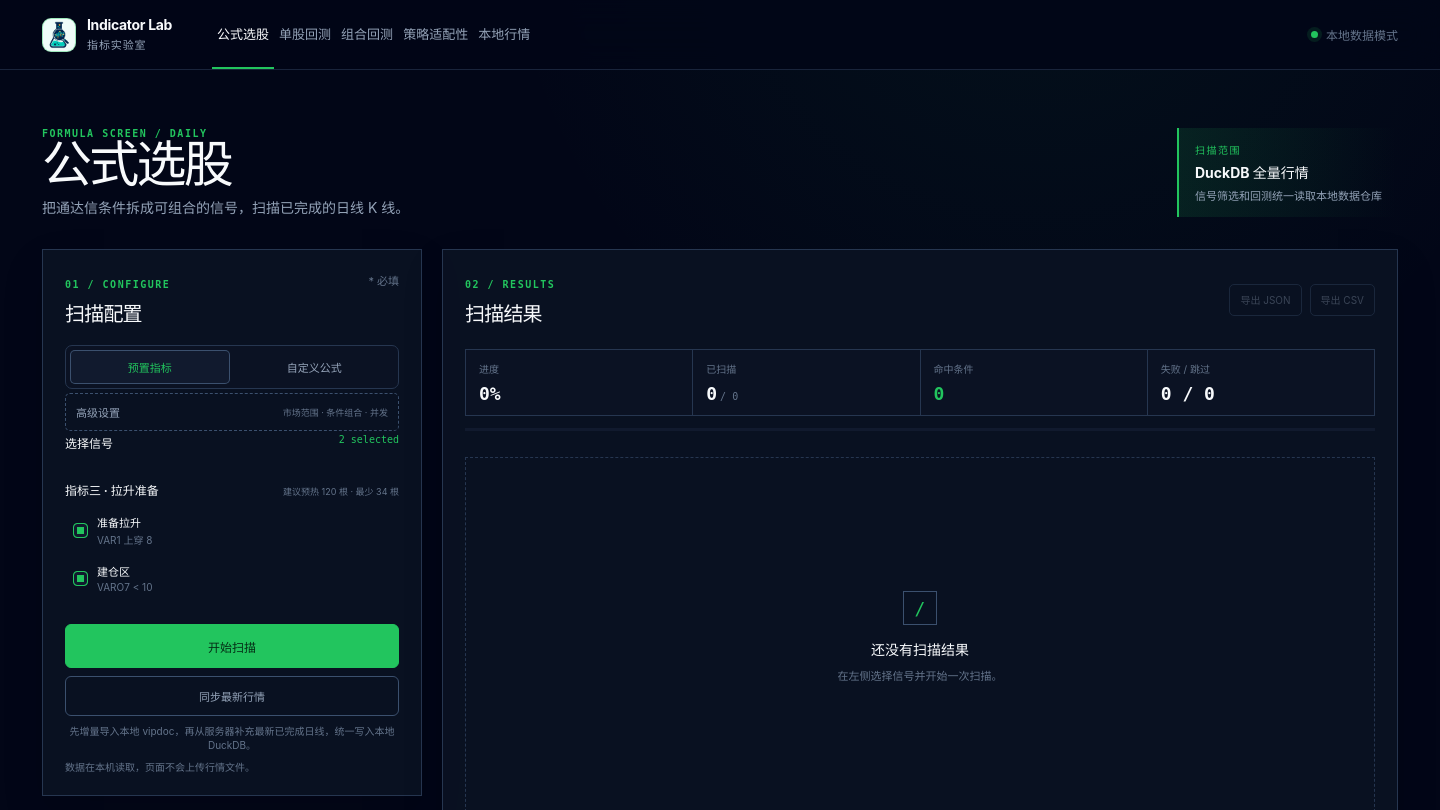
Test case: FormulaScreenPage › syncs latest market data with one click and shows the write summary
Click the button with test id "sync-market-data".
click(232, 696)  # box [65,676,399,716]
(page scrolled)
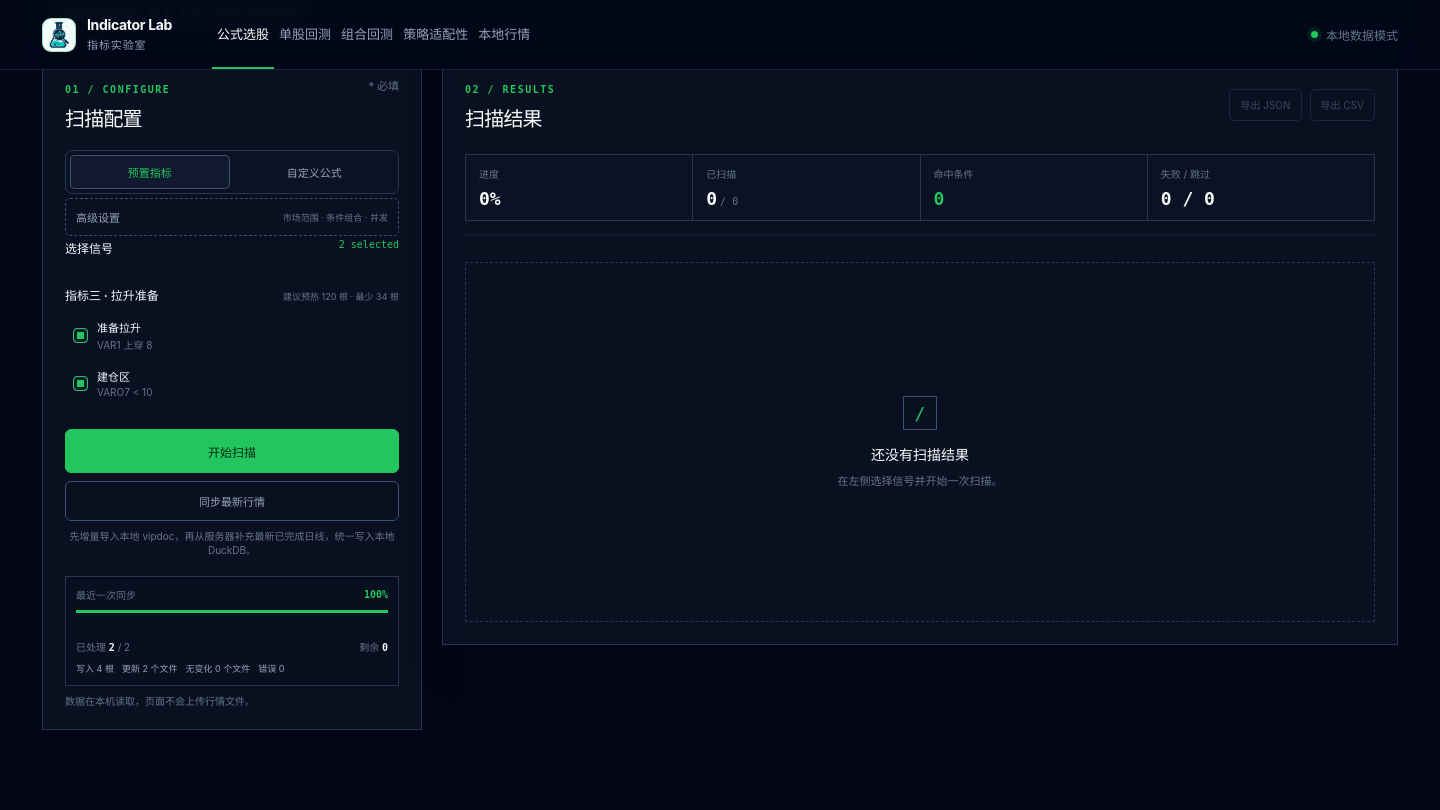
Check: the element with test id "sync-progress" shows "已处理 2 / 2", box [65,576,399,686]
Check: the element with test id "sync-progress" shows "剩余 0", box [65,576,399,686]
Check: the element with test id "sync-progress" shows "更新 2 个文件", box [122,663,178,674]
